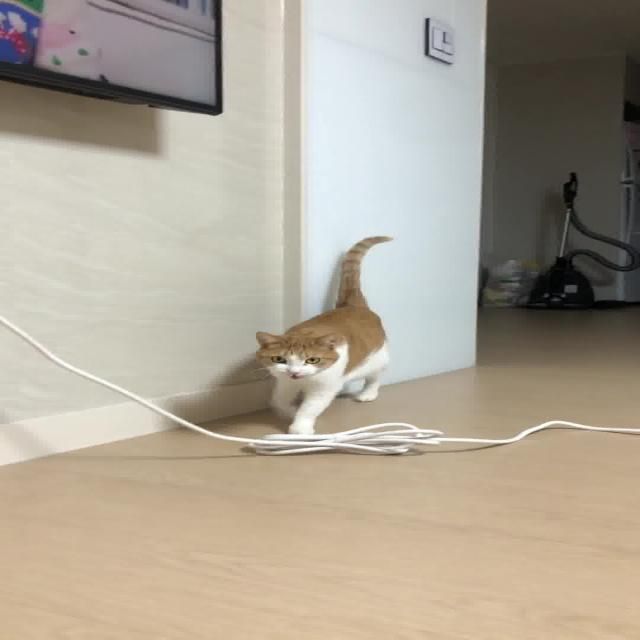cat: (207, 223, 452, 444)
